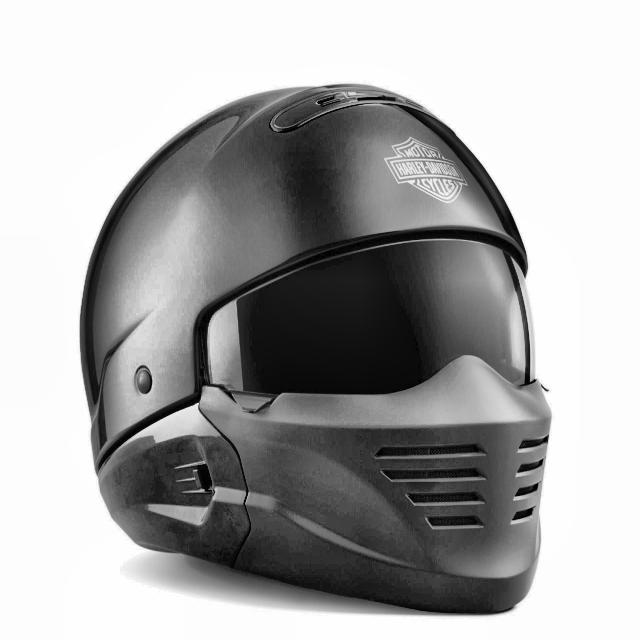Helmet: (40, 80, 586, 620)
